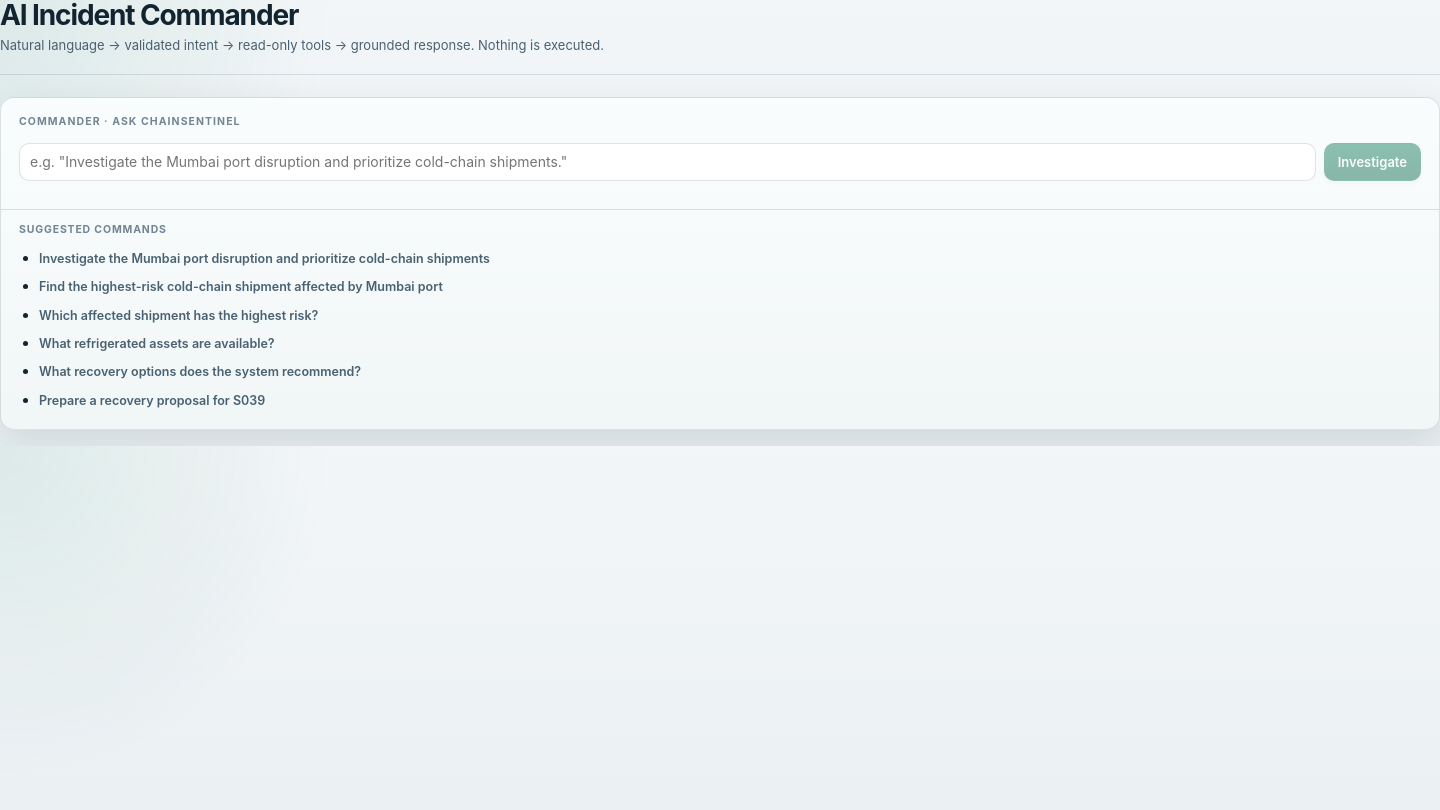
Test: AI Incident Commander screen › renders clarification requests with the recorded incidents
Replace the text in the field with placeholder "Investigate the Mumbai" with "Investigate Atlantis port." at (667, 162), box 19,143 -> 1316,181
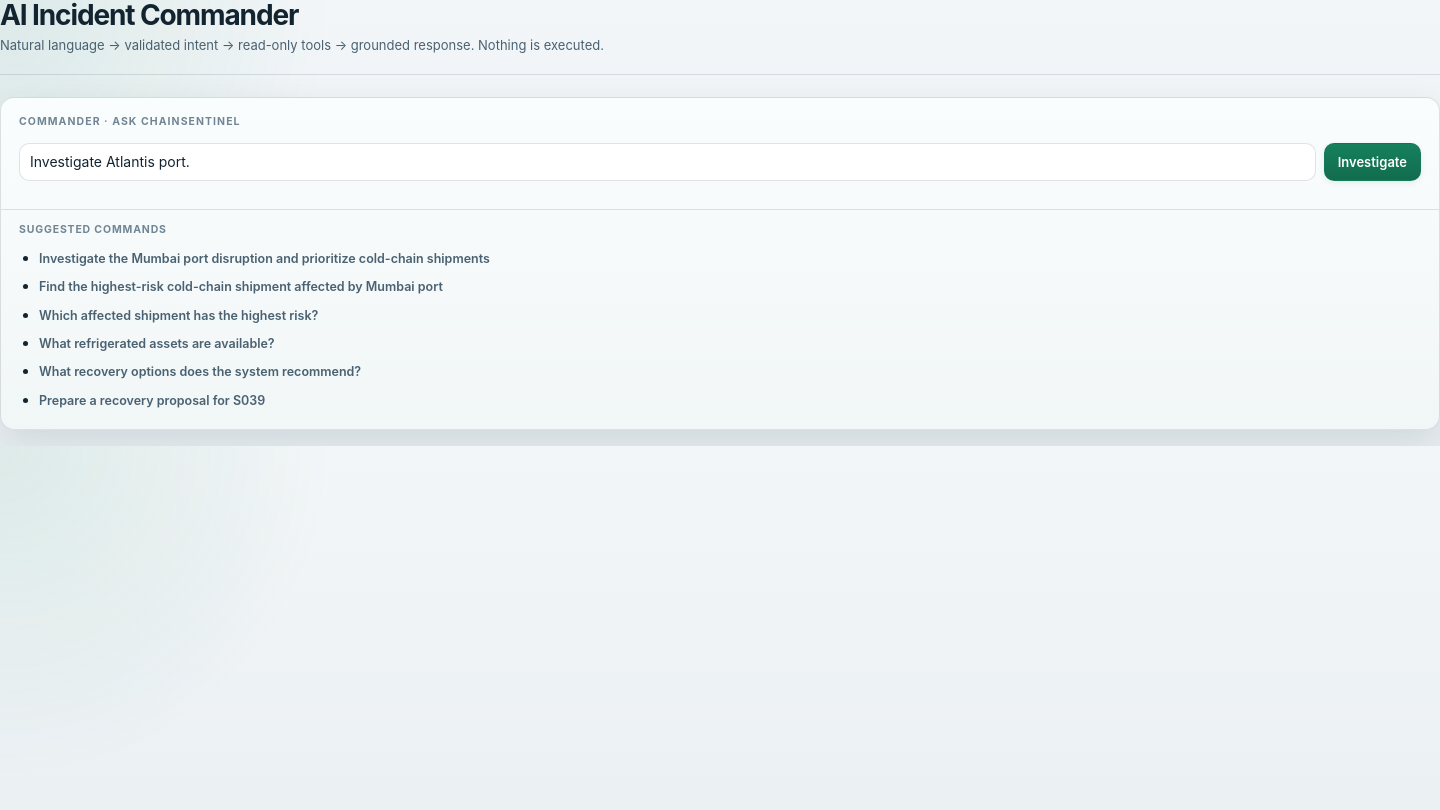
Click the button "Investigate" at (1372, 162), box 1324,143 -> 1421,181
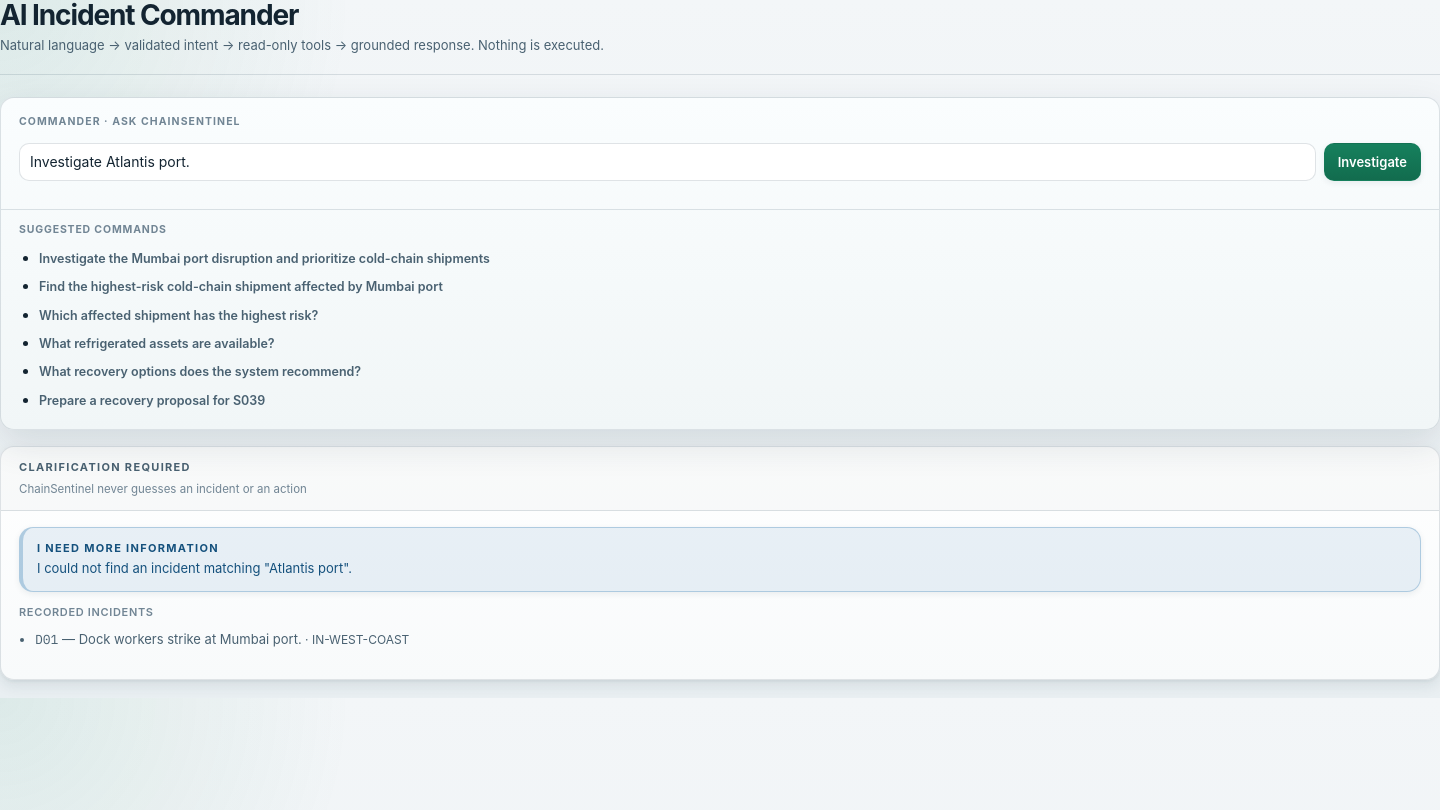
Expected: the heading "Clarification required" is shown, 19,460 -> 191,474
Expected: the text "could not find an incident matching" is shown, 37,560 -> 352,576
Expected: the text "D01" is shown, 35,630 -> 58,648
